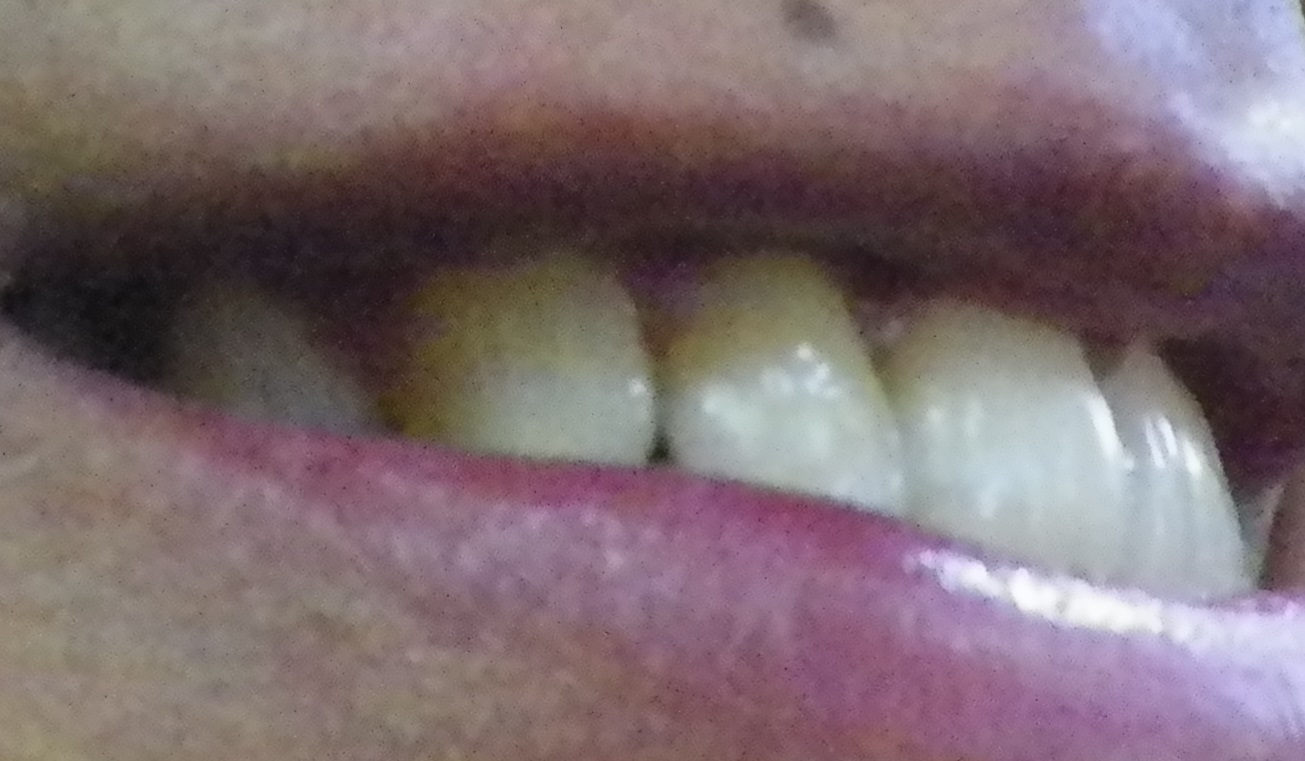boca: (172, 251, 1282, 605)
